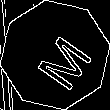M_NW: (21, 22, 89, 88)
